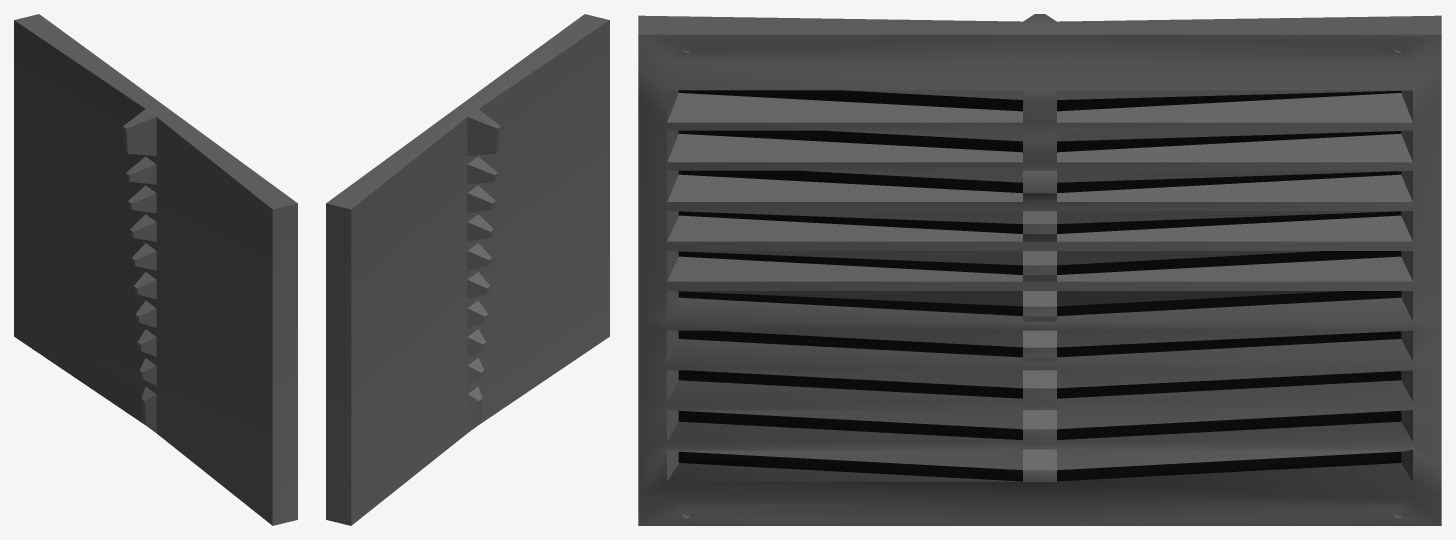
File: vent.fbx
3 views of the same model, side by side, from view 1: azimuth 30°, elevation 25°; view 2: azimuth 150°, elevation 25°; view 3: azimuth 270°, elevation 25° (orthographic). The views are drawn at different scales.
Parts seen in each view (by area): view 1: vent; view 2: vent; view 3: vent.
Part boxes in pixels (x1,y1,x2,y2): vent: [14, 14, 297, 525]; vent: [326, 14, 609, 525]; vent: [638, 14, 1441, 525].
Bounding box in the file's own units: 11.29 × 50.44 × 74.75.
1 material, 1 textured.
